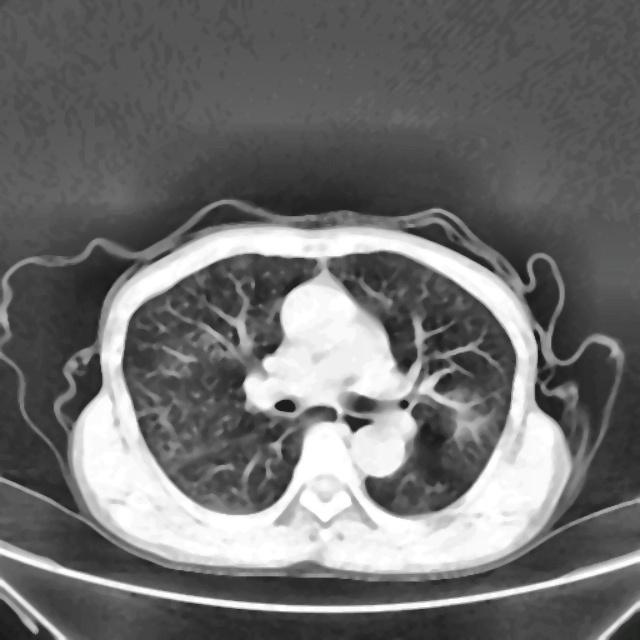covid: (55, 208, 620, 581)
